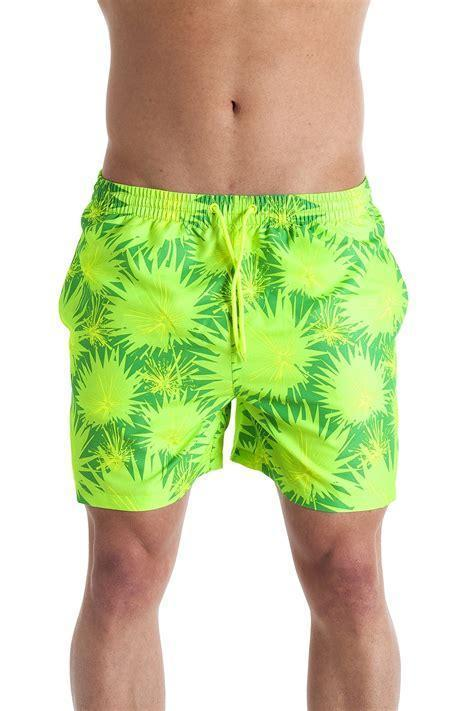short: (58, 171, 409, 512)
